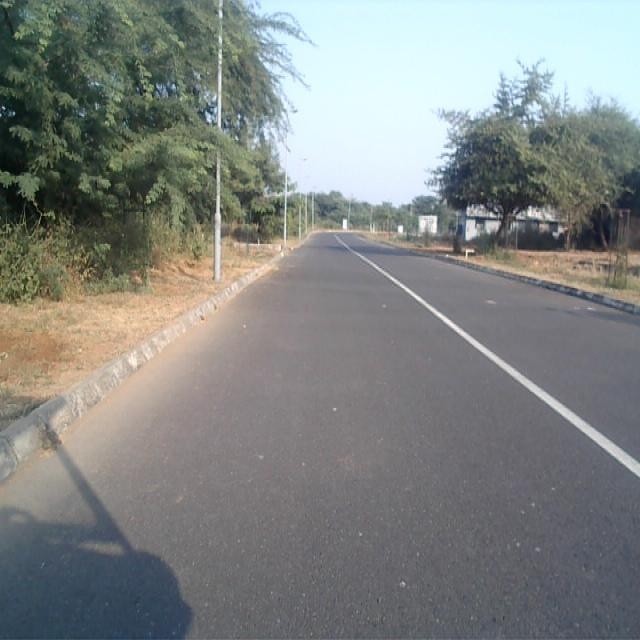lane: (0, 236, 640, 640)
